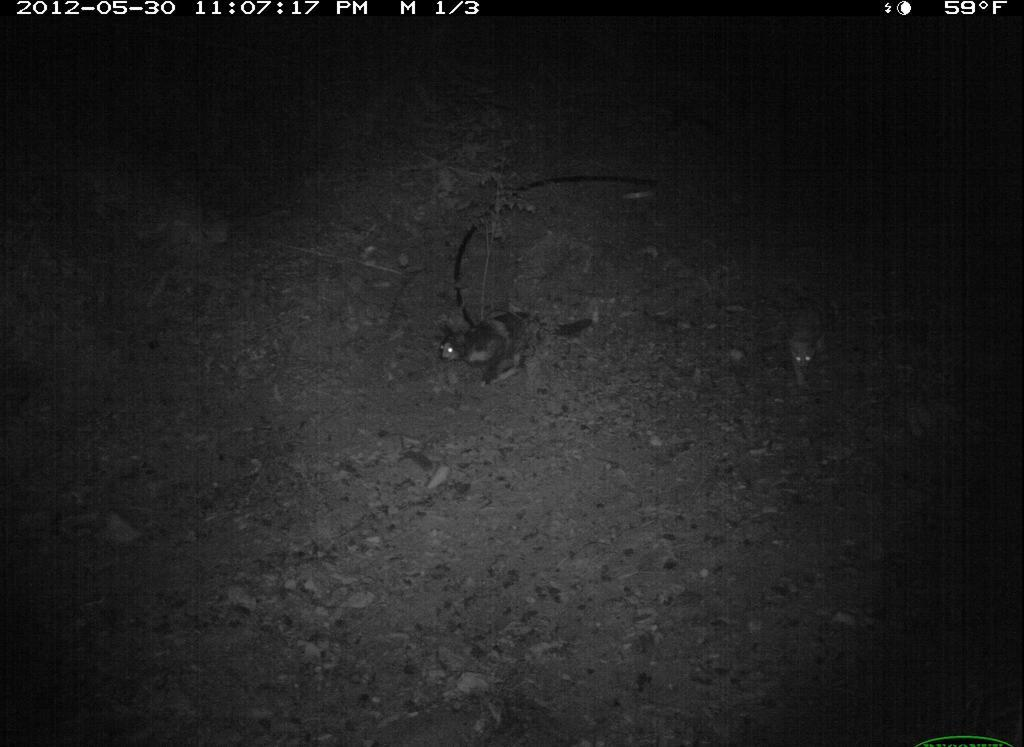cat: (433, 304, 602, 387), (781, 287, 838, 400)
